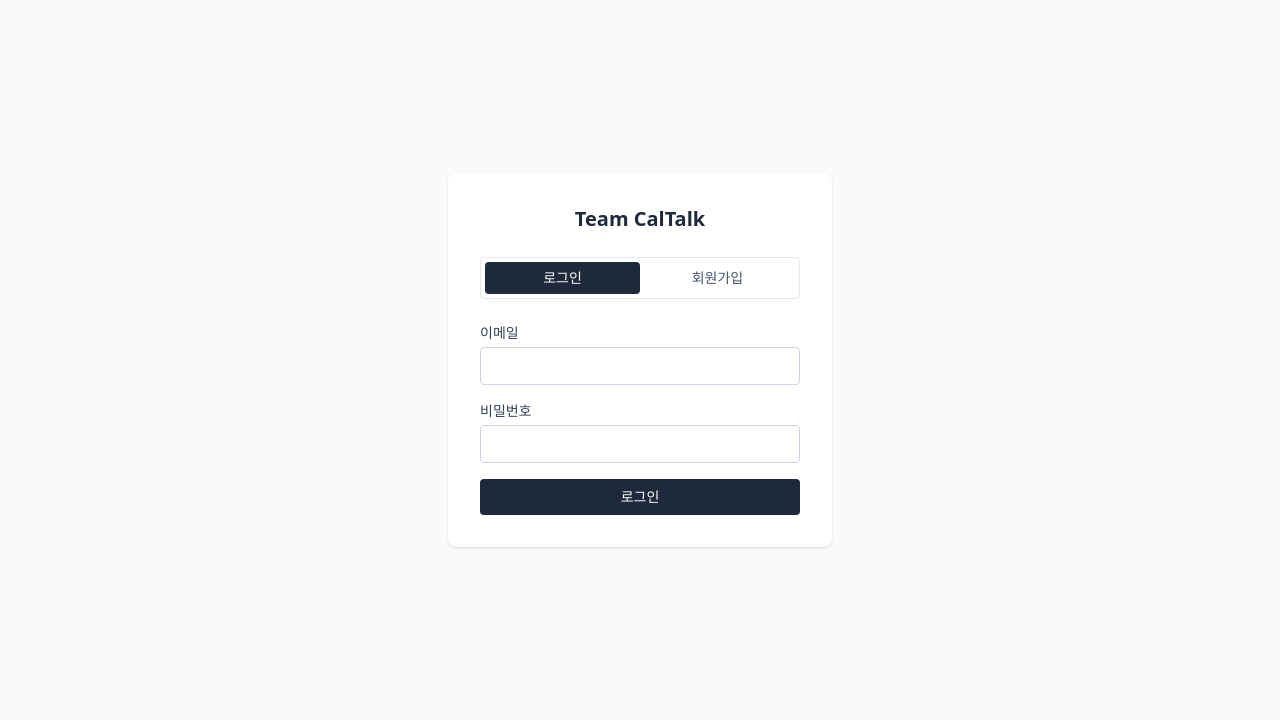
Test case: 인증 화면 (FE-04 / UC-01 / SC-01) › 회원가입 성공 시 자동 로그인되어 진입한다
The width and height of the screenshot is (1280, 720).
Click the tab "회원가입". click: (718, 278)
box: x1=640 y1=262 x2=795 y2=294
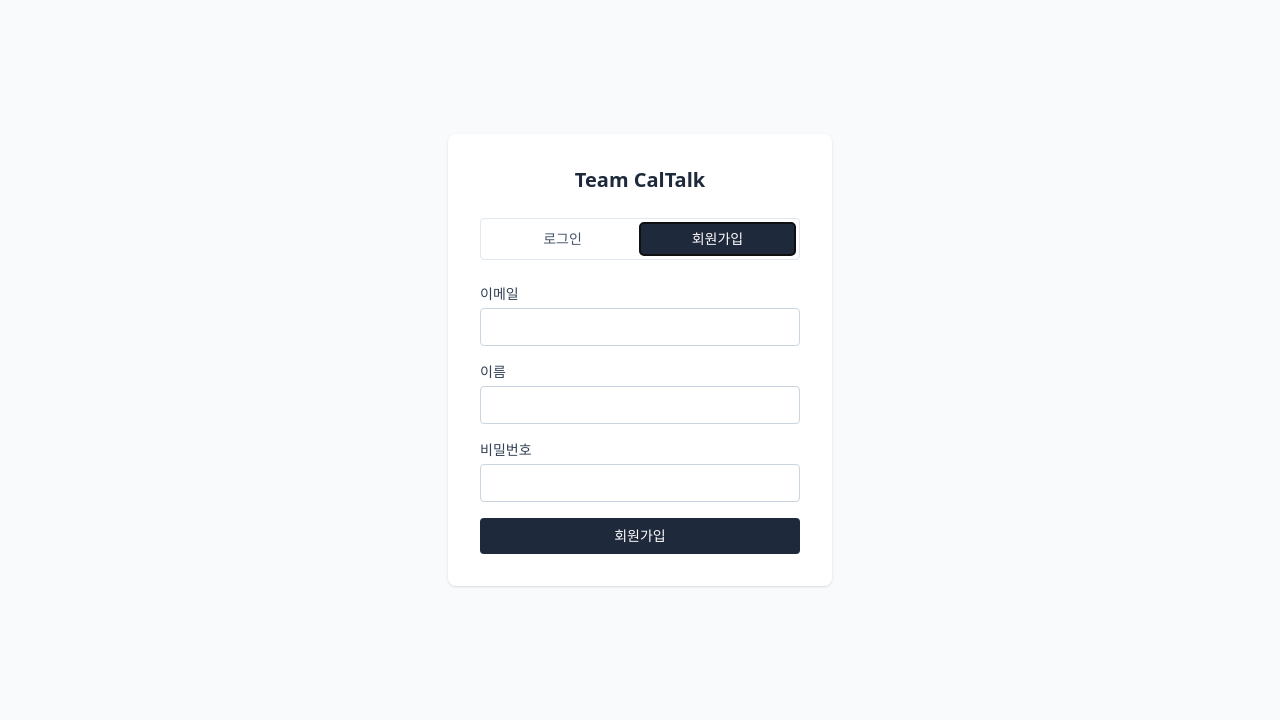
Type "hong@example.com" into the field labelled "이메일". click: (640, 327)
box: x1=480 y1=308 x2=800 y2=346
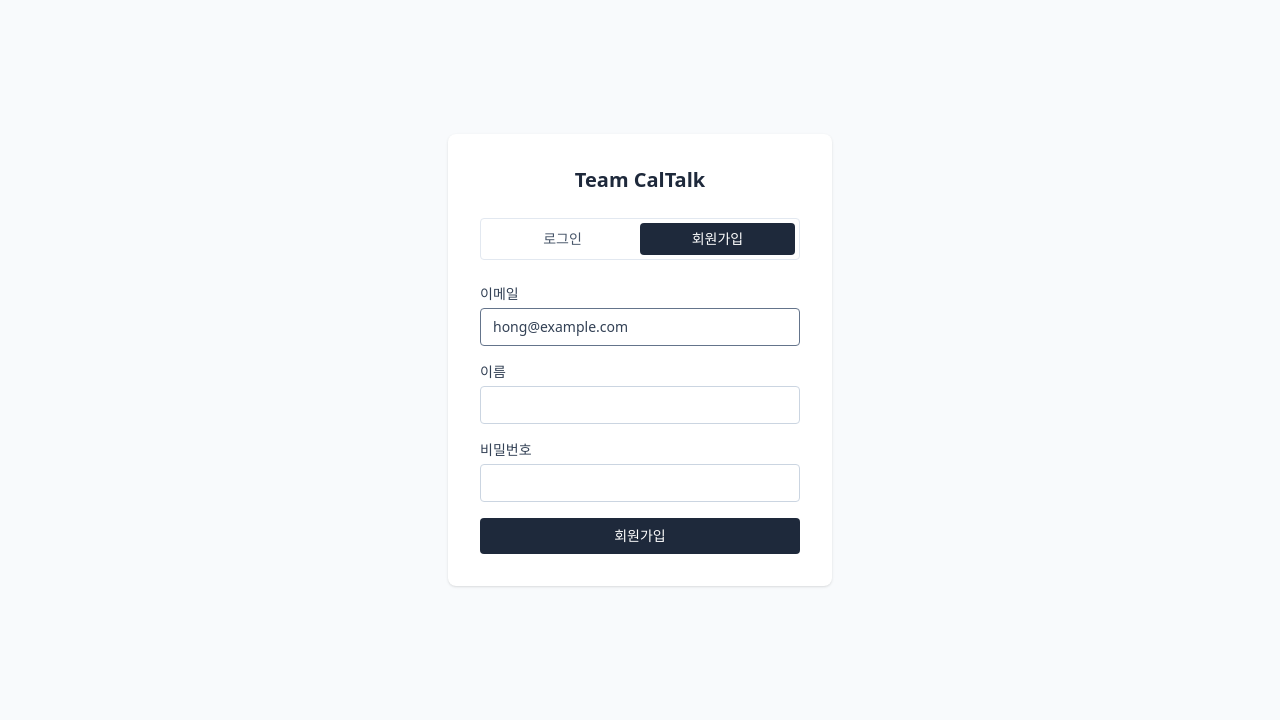
Type "홍길동" into the field labelled "이름". click: (640, 405)
box: x1=480 y1=386 x2=800 y2=424
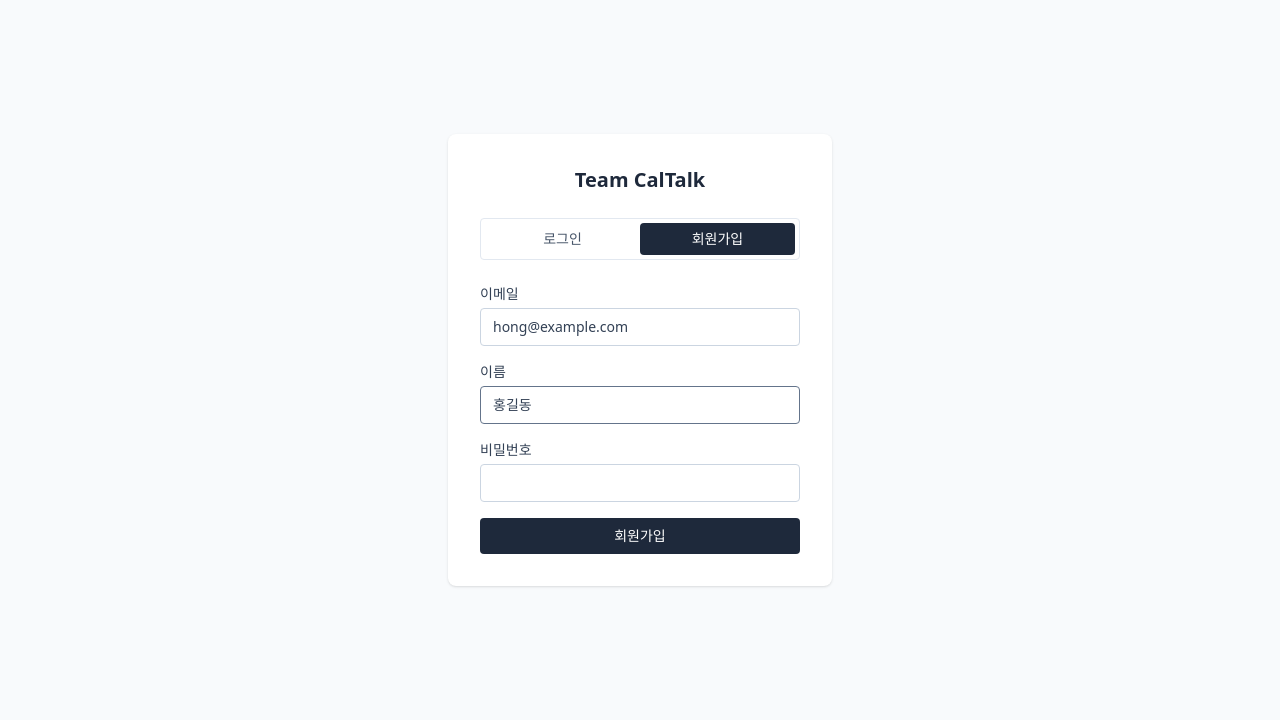
Type "P@ssw0rd!" into the password field labelled "비밀번호". click: (640, 483)
box: x1=480 y1=464 x2=800 y2=502
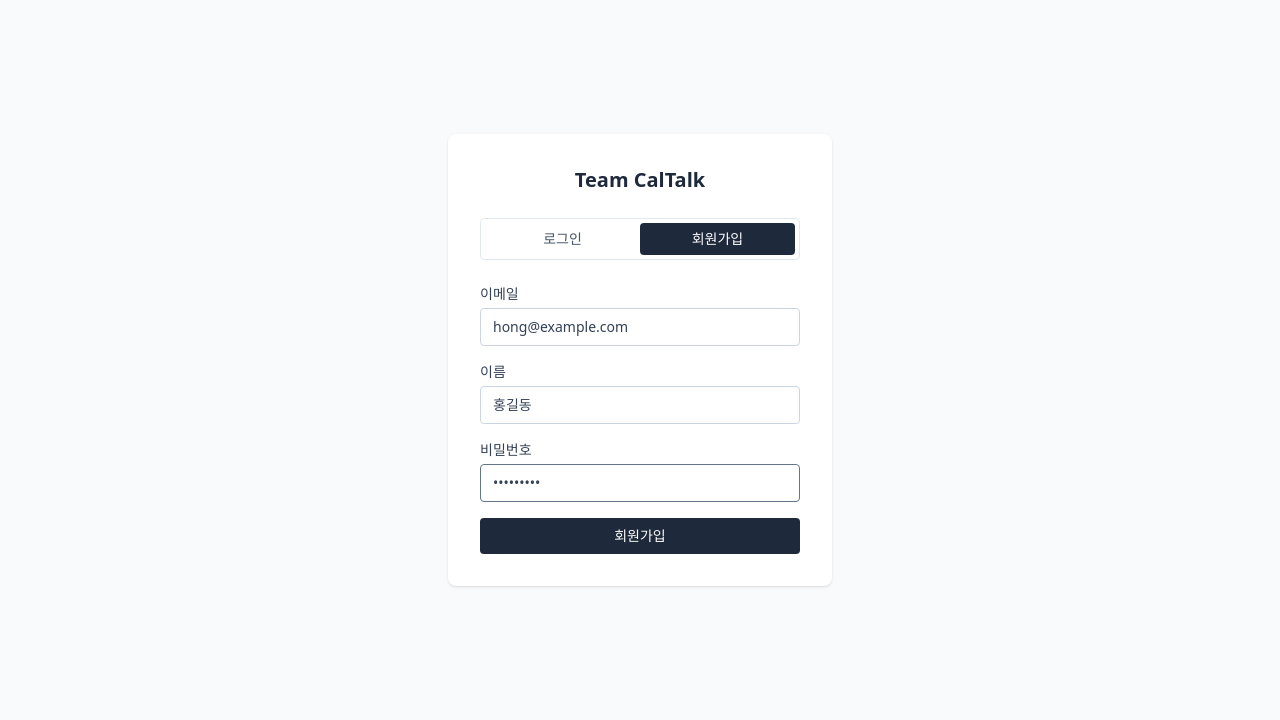
Click the button "회원가입". click: (640, 536)
box: x1=480 y1=518 x2=800 y2=554
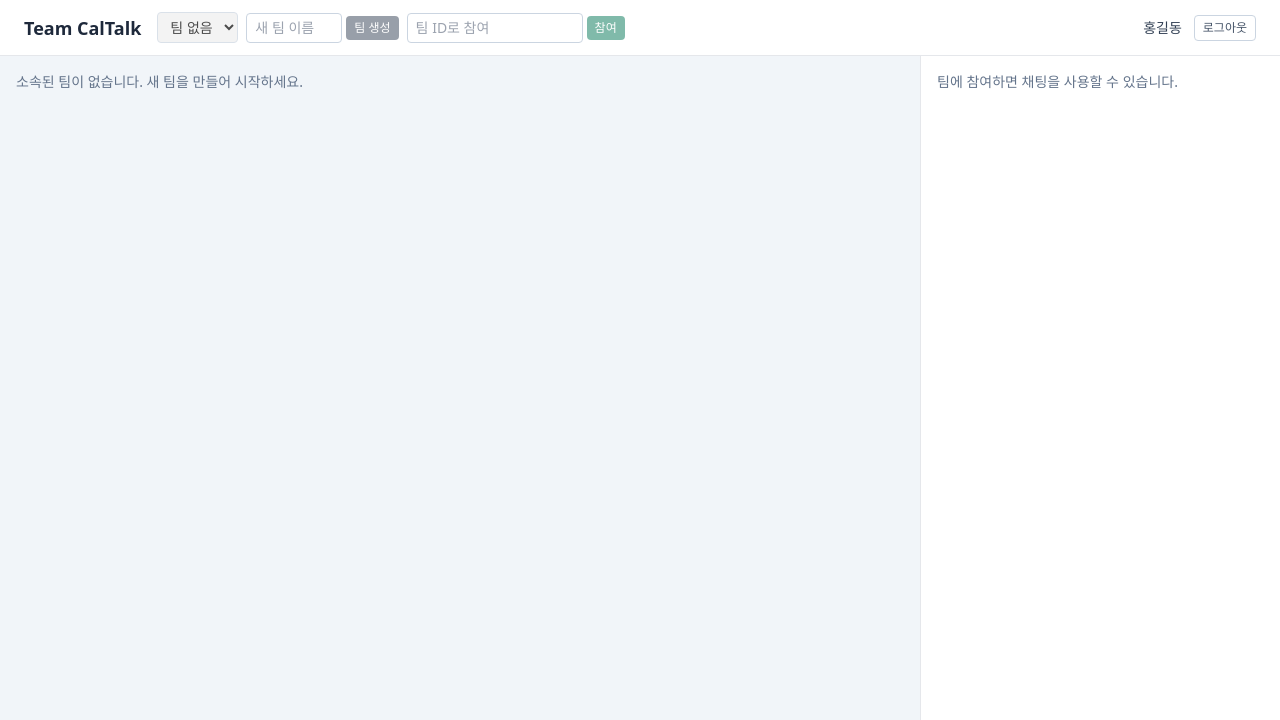
Expected: the text "홍길동" is shown, x1=1143 y1=18 x2=1182 y2=38
